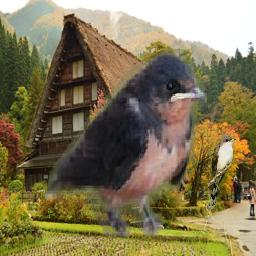Cuckoo: (208, 135, 236, 210)
Swallow: (45, 50, 207, 237)
